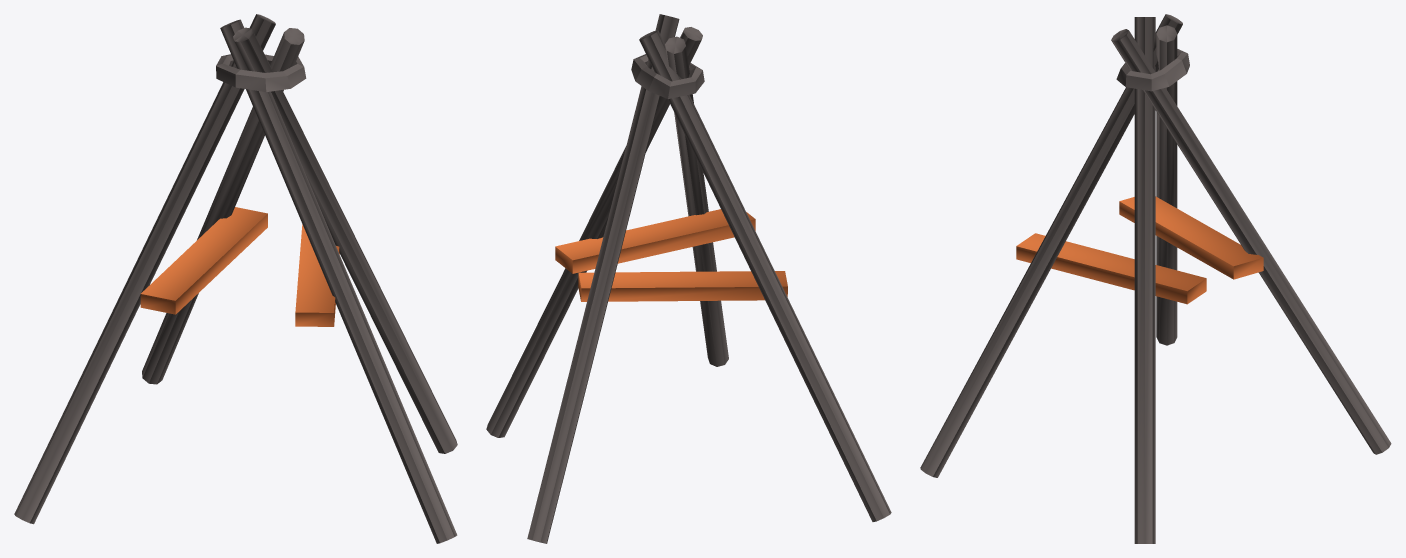
The model's file is Fire_stand_2.fbx.
3 views of the same model, side by side, from view 1: azimuth 30°, elevation 25°; view 2: azimuth 150°, elevation 25°; view 3: azimuth 270°, elevation 25° (orthographic). The views are drawn at different scales.
Visible parts, largest first — view 1: Fire_stand_2; view 2: Fire_stand_2; view 3: Fire_stand_2.
Boxes of the visible parts, x1=… form: Fire_stand_2: x1=14, y1=14, x2=457, y2=543; Fire_stand_2: x1=486, y1=14, x2=891, y2=543; Fire_stand_2: x1=920, y1=14, x2=1391, y2=543.
Size of the model in its own units: 88.99 by 93.16 by 90.15.
